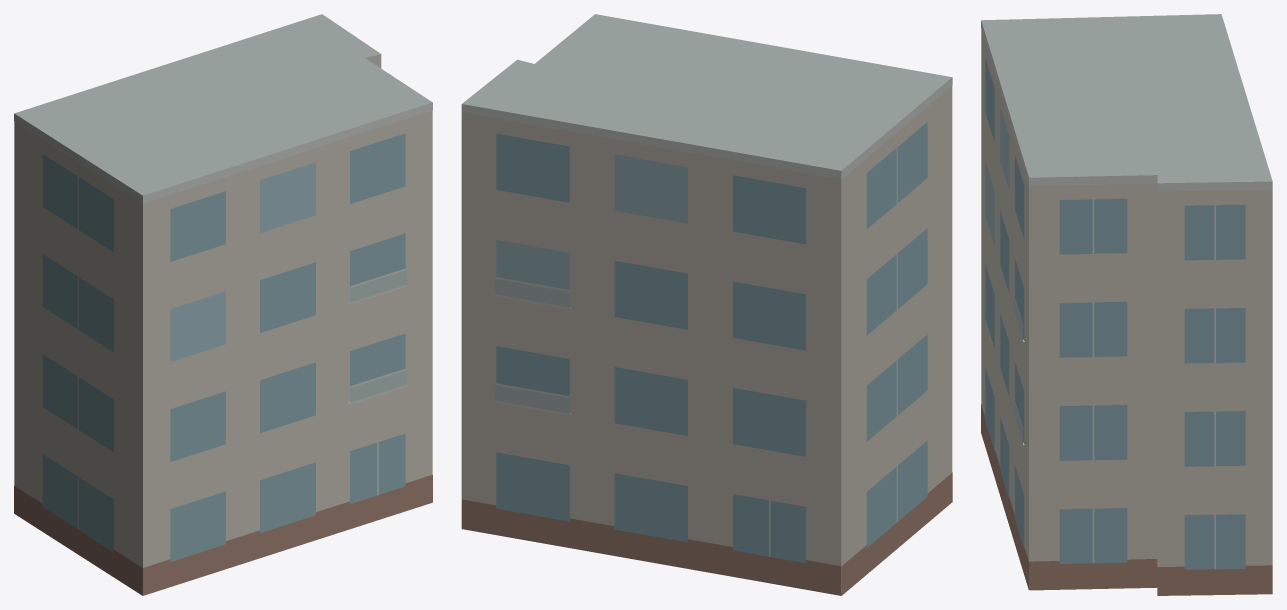
Rendered from survey-upis-32616867.glb.
3 views of the same model, side by side, from view 1: azimuth 30°, elevation 25°; view 2: azimuth 150°, elevation 25°; view 3: azimuth 270°, elevation 25° (orthographic). The views are drawn at different scales.
Visible parts, largest first — view 1: survey-upis-32616867.tmp; view 2: survey-upis-32616867.tmp; view 3: survey-upis-32616867.tmp.
Part boxes in pixels (<box>): survey-upis-32616867.tmp: <box>14,14,432,595</box>; survey-upis-32616867.tmp: <box>461,14,952,595</box>; survey-upis-32616867.tmp: <box>981,14,1272,595</box>.
Bounding box in the file's own units: 10.74 × 12.2 × 7.82.
